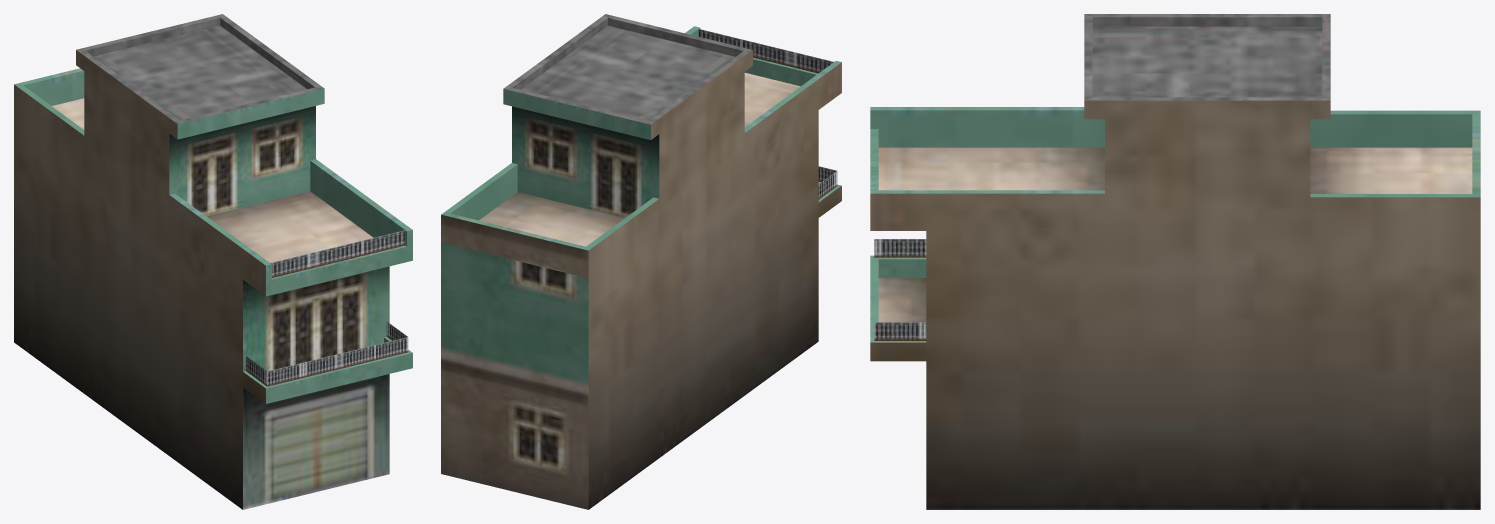
3 views of the same model, side by side, from view 1: azimuth 30°, elevation 25°; view 2: azimuth 150°, elevation 25°; view 3: azimuth 270°, elevation 25° (orthographic). The views are drawn at different scales.
Visible parts, largest first — view 1: 5da67bfb8163ae1640b96387.001; view 2: 5da67bfb8163ae1640b96387.001; view 3: 5da67bfb8163ae1640b96387.001.
Boxes of the visible parts, box(x1,y1,x2,y2) form: 5da67bfb8163ae1640b96387.001: box(14, 14, 412, 509); 5da67bfb8163ae1640b96387.001: box(441, 14, 841, 509); 5da67bfb8163ae1640b96387.001: box(870, 14, 1480, 509).
Bounding box in the file's own units: 5 × 11 × 14.87.
1 material, 1 textured.
